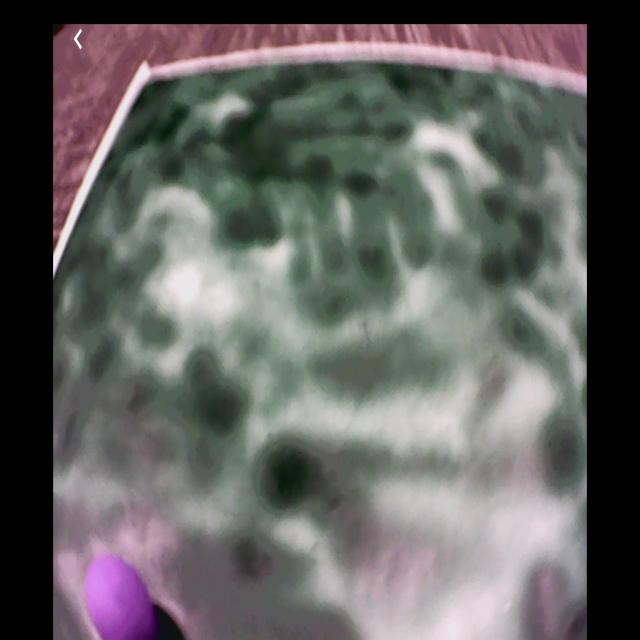ball: (84, 556, 153, 640)
